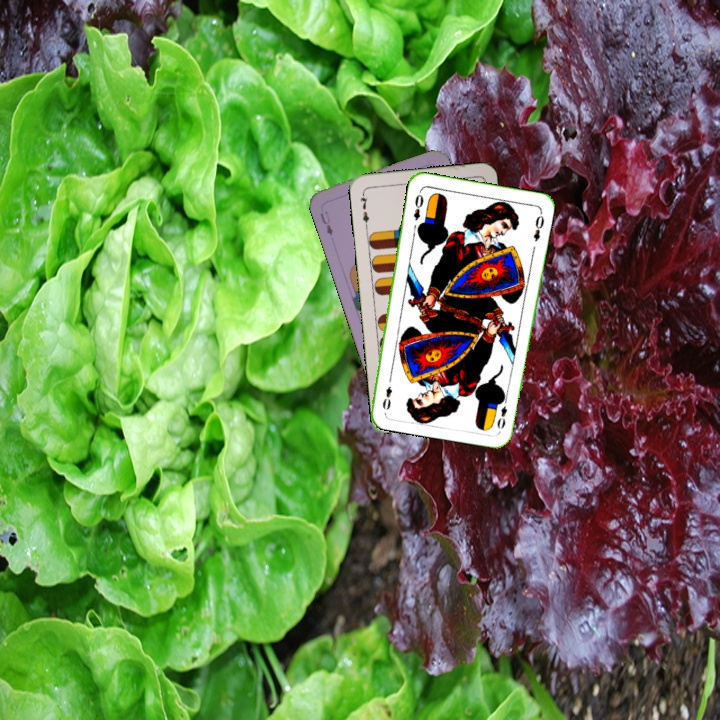E7: (356, 189, 372, 229)
EO: (493, 393, 510, 432), (410, 186, 426, 223)
EU: (316, 207, 335, 238)
